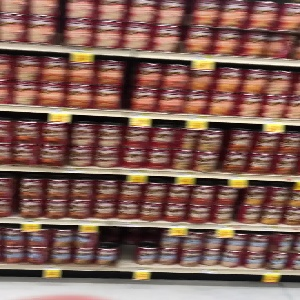void: (117, 226, 137, 271)
